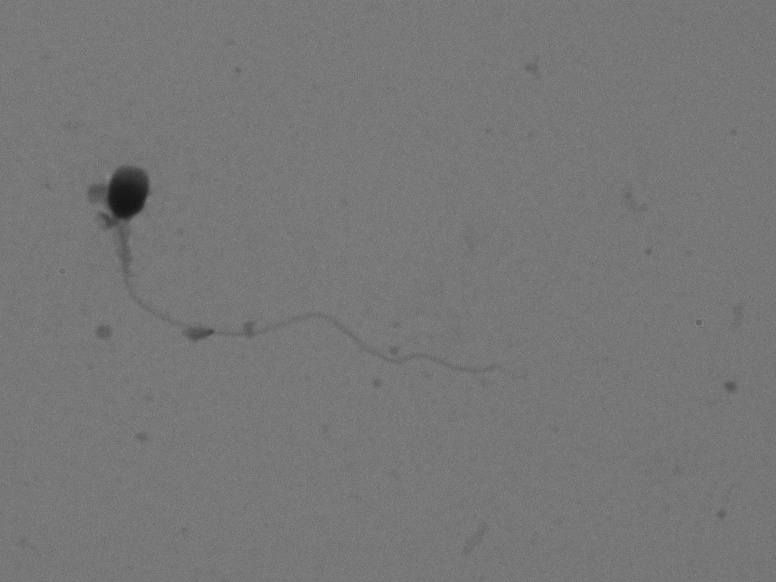Abnormal: (69, 157, 544, 391)
